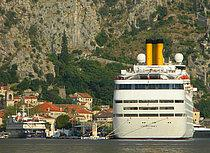Ship: (108, 37, 200, 142)
